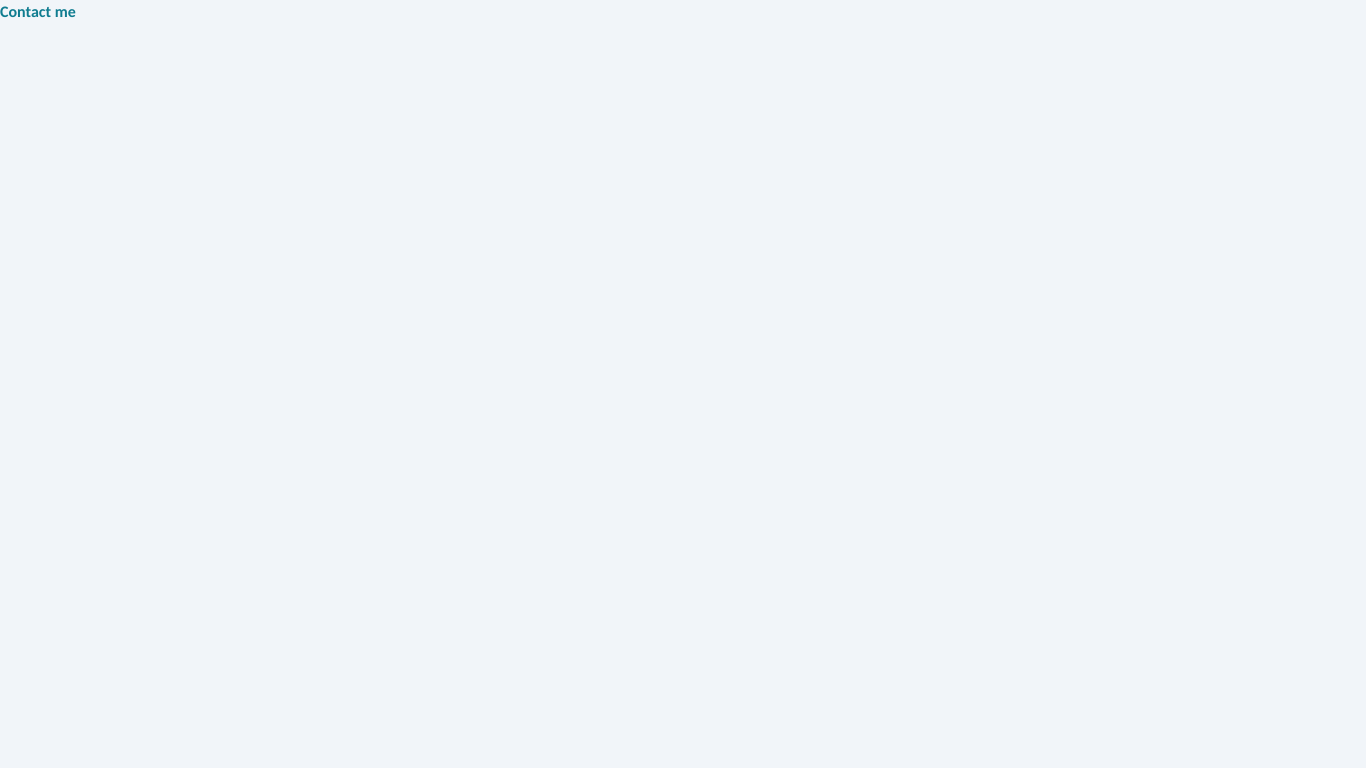
it: ContactDialog › says so when the message could not be sent
Click the button "Contact me": x=38, y=12 [0,0,76,24]
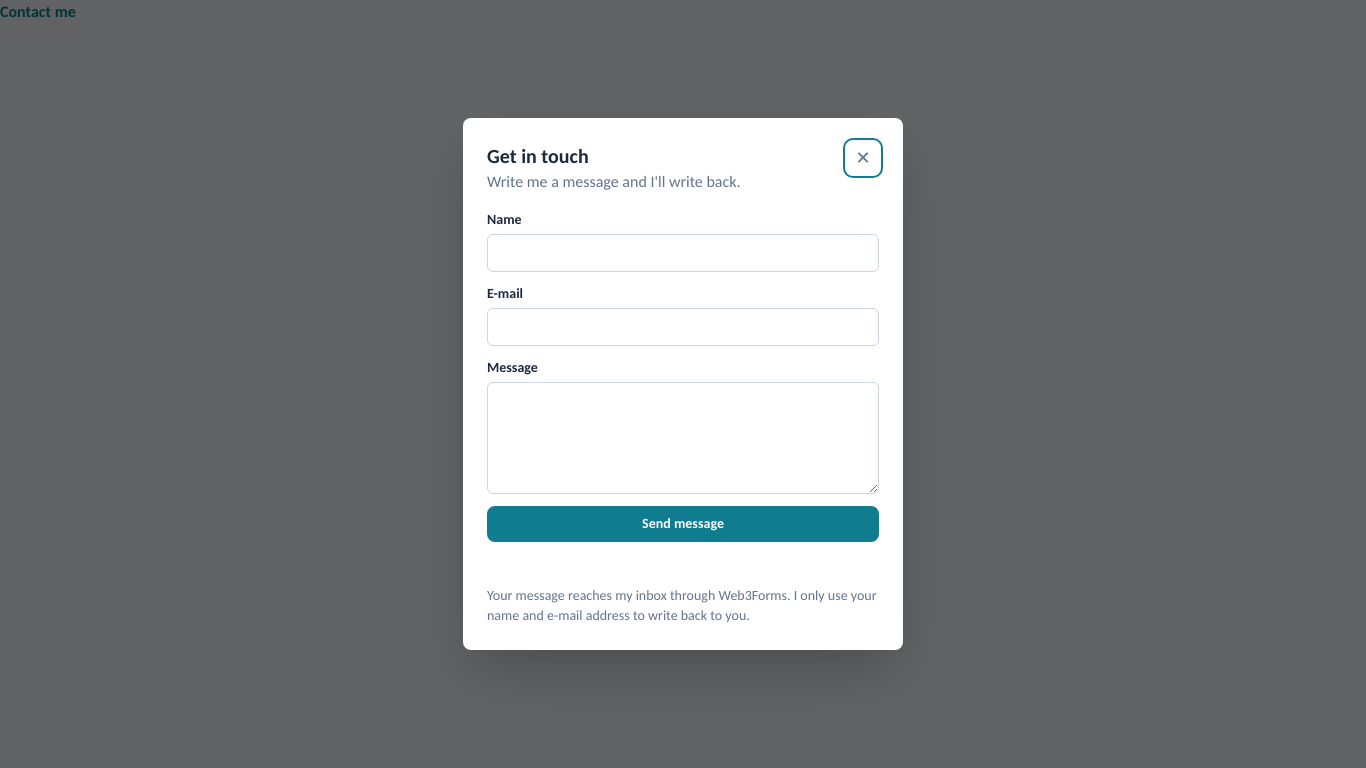
In the field labelled "Name": x=683, y=253 [487,234,879,272], type "Rika"
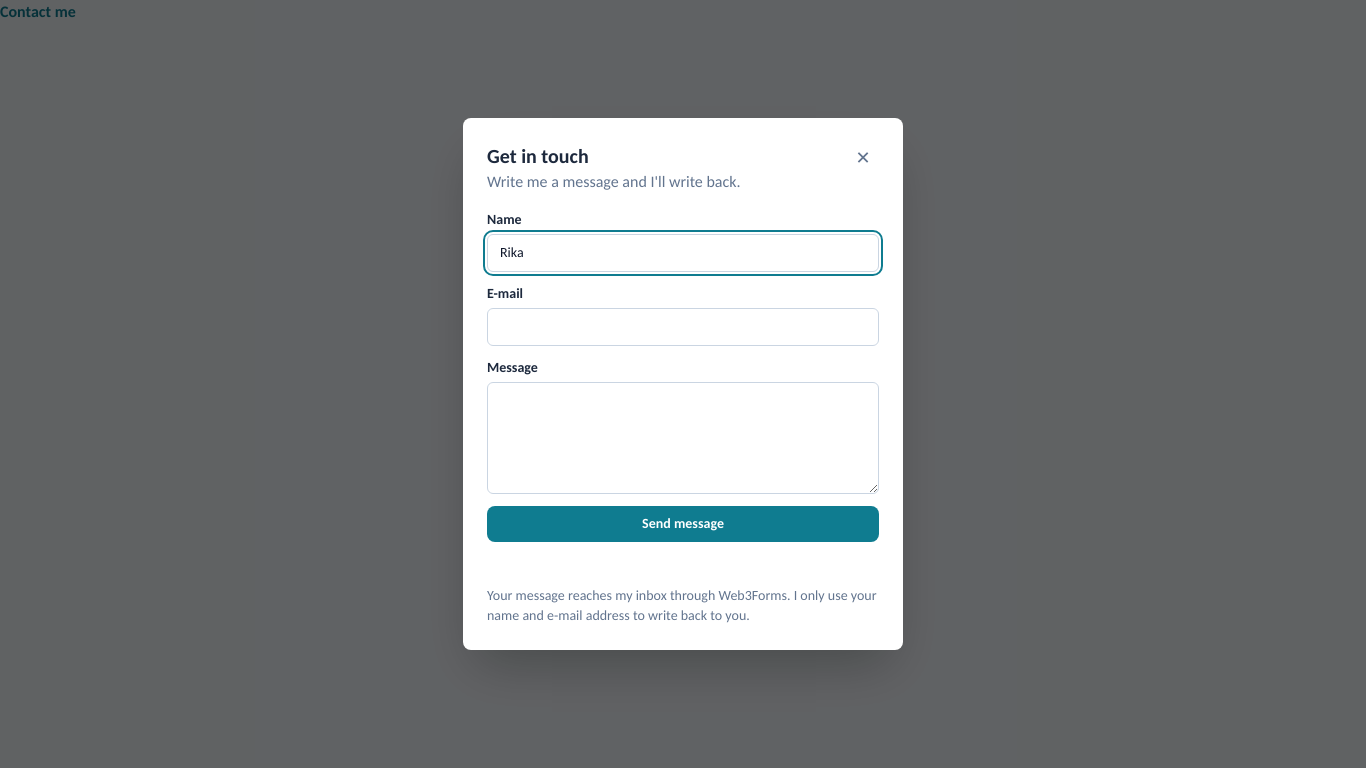
In the field labelled "E-mail": x=683, y=327 [487,308,879,346], type "rika@example.com"
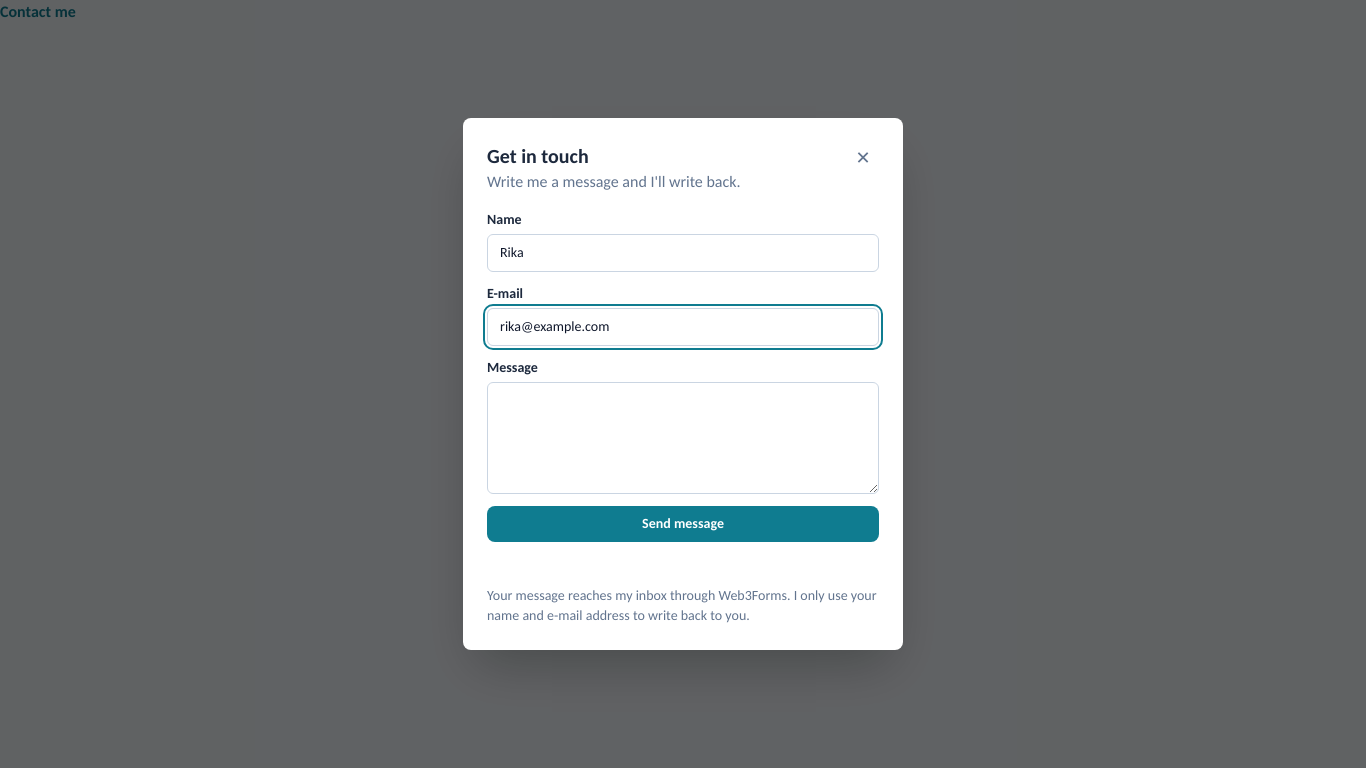
In the text box labelled "Message": x=683, y=438 [487,382,879,494], type "Hello from the raisin!"
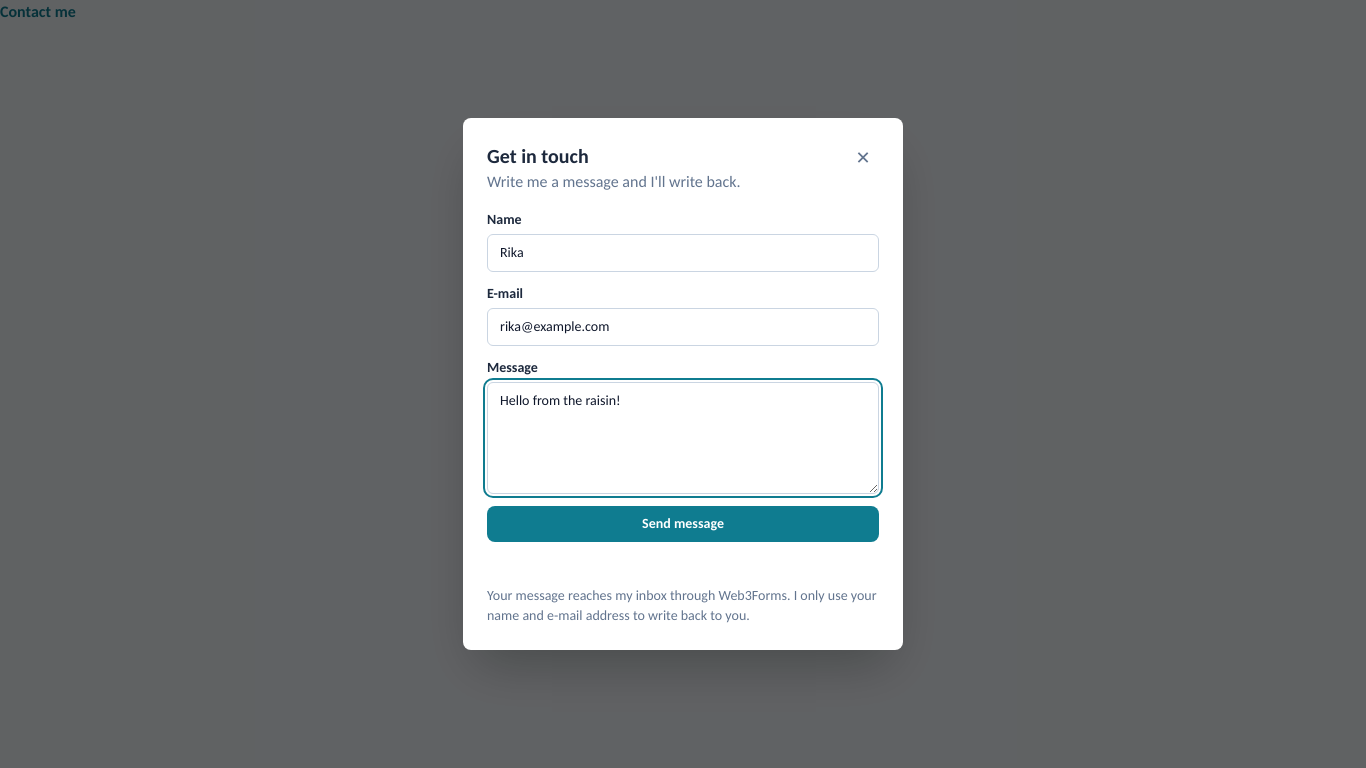
Click the button "Send message": x=683, y=524 [487,506,879,542]
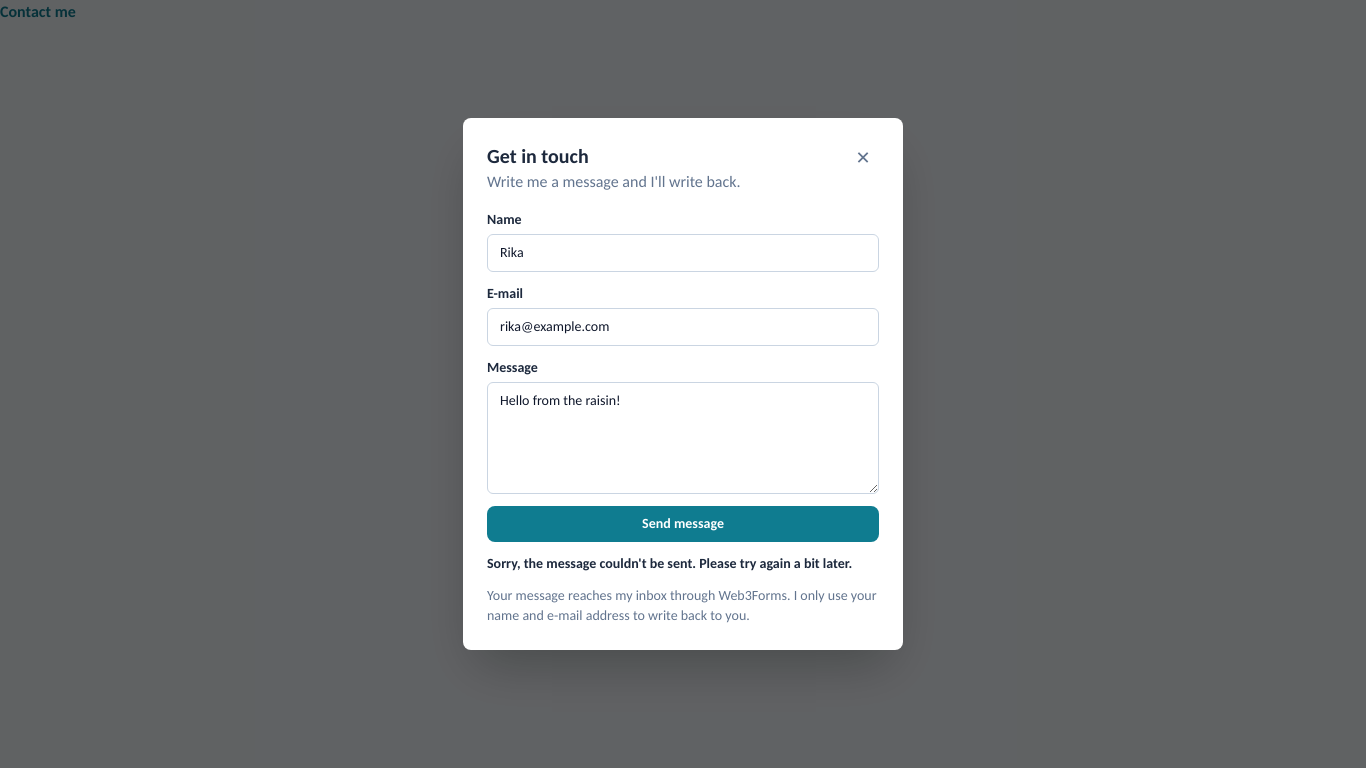
Expected: the text "Sorry, the message couldn't be sent. Please try again a bit later." is shown, [487,554,879,574]
